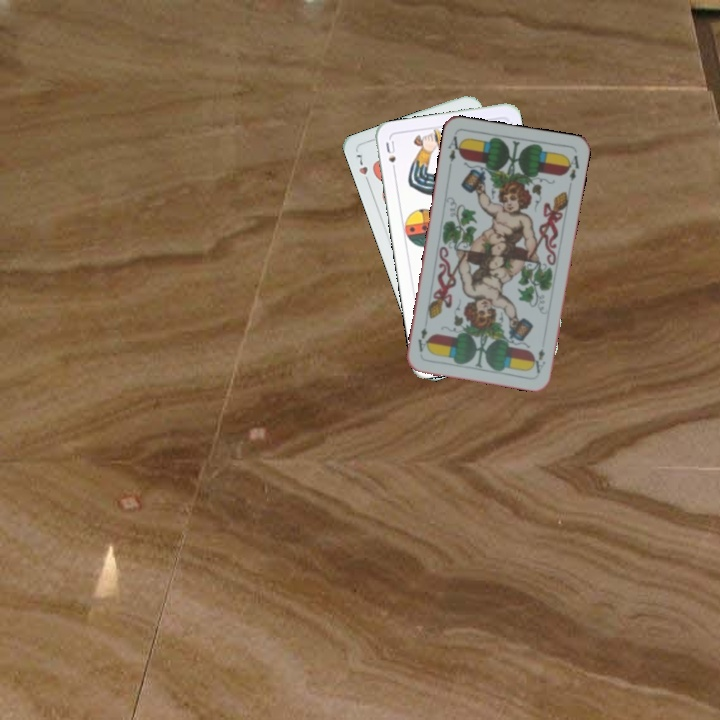EA: (444, 132, 465, 164), (531, 345, 548, 376)
H7: (352, 148, 372, 188)
SU: (382, 136, 399, 176)
